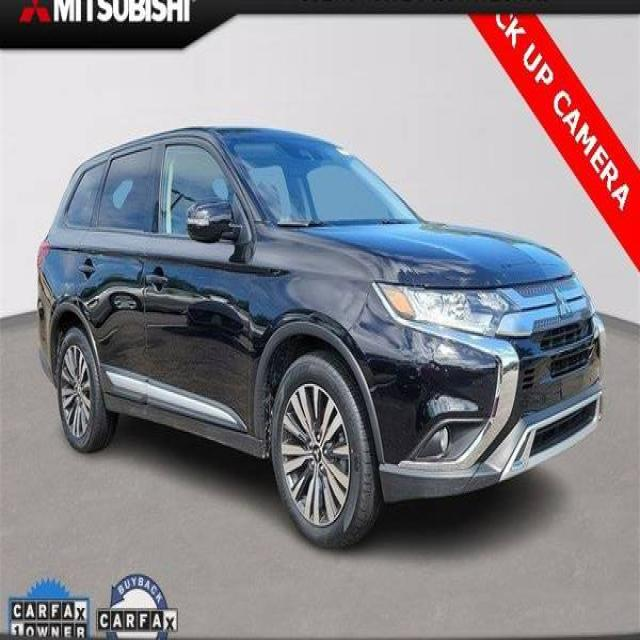light_vehicle: (35, 124, 606, 548)
